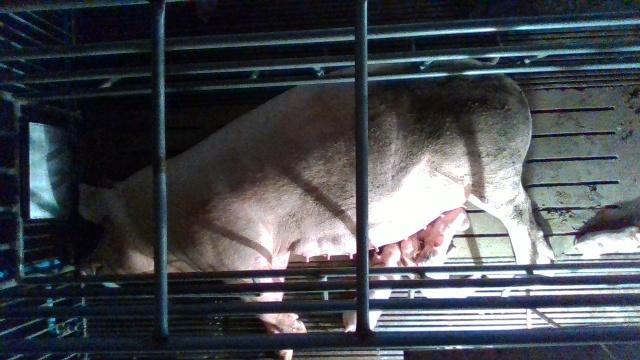piglet: (343, 243, 400, 331), (417, 209, 469, 278), (567, 226, 640, 260)
sow-sleep-lactate: (80, 58, 549, 360)
